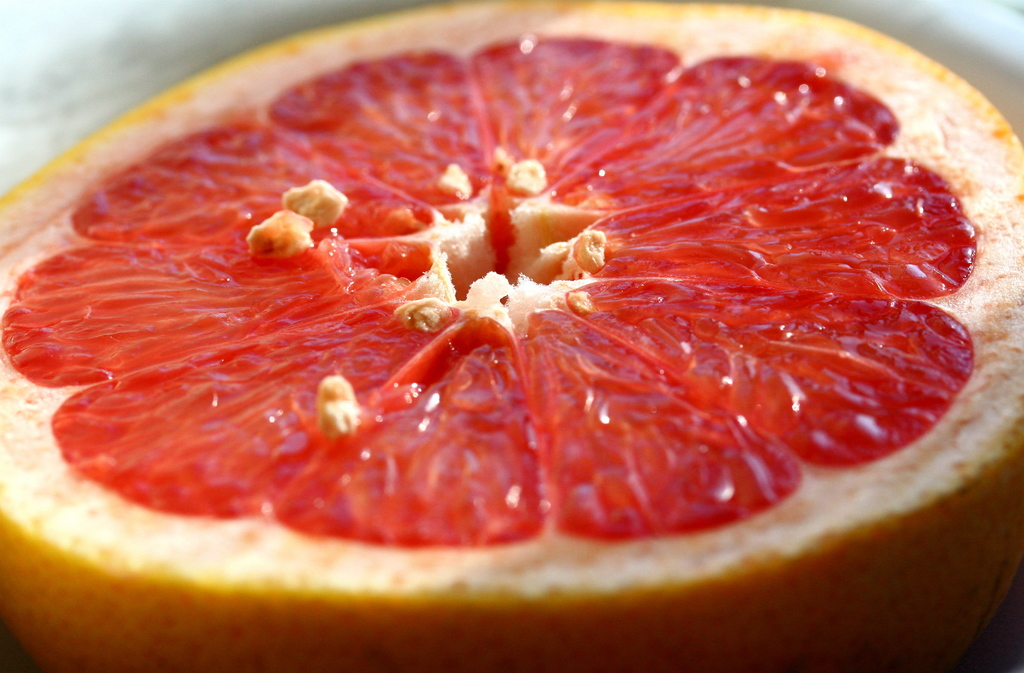Ripe: (67, 36, 1024, 644)
